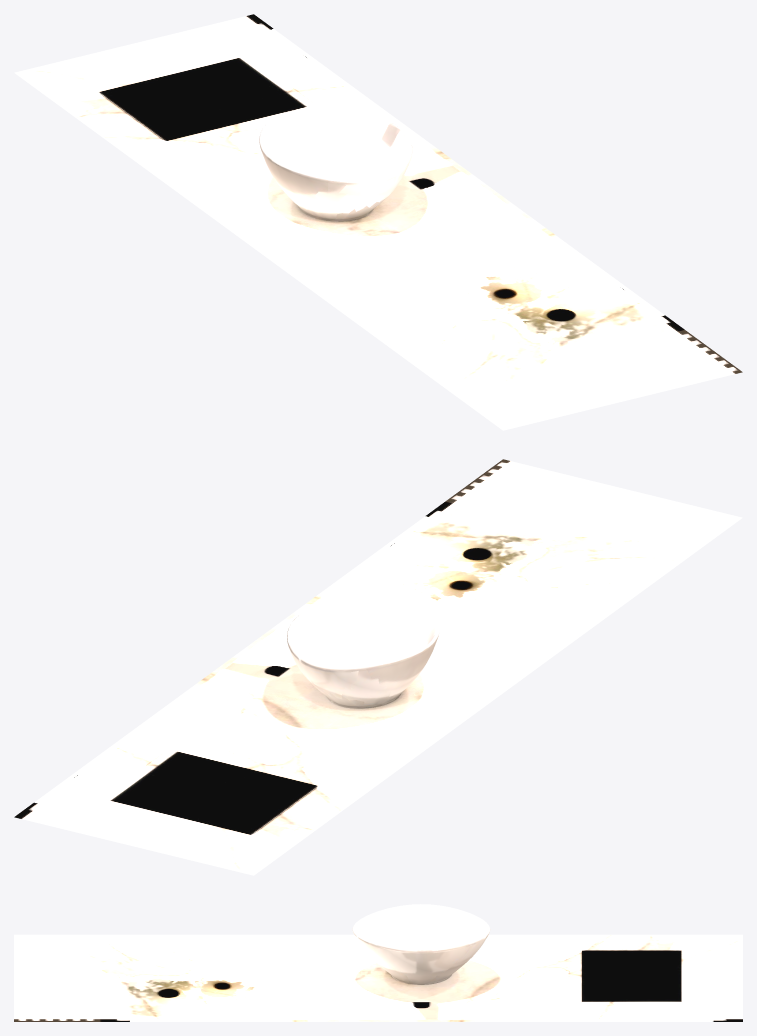
Rendered from pearl_over_counter_basin.glb.
3 views of the same model, one above another, from view 1: azimuth 30°, elevation 25°; view 2: azimuth 150°, elevation 25°; view 3: azimuth 270°, elevation 25° (orthographic). The views are drawn at different scales.
Visible parts, largest first — view 1: pearl_over_counter_basin; view 2: pearl_over_counter_basin; view 3: pearl_over_counter_basin.
Part boxes in pixels (box(x1,y1,x2,y2)): pearl_over_counter_basin: box(14, 14, 742, 430); pearl_over_counter_basin: box(14, 459, 742, 875); pearl_over_counter_basin: box(14, 904, 742, 1021).
Size of the model in its own units: 0.61 by 0.15 by 2.15.
1 material, 1 textured.
